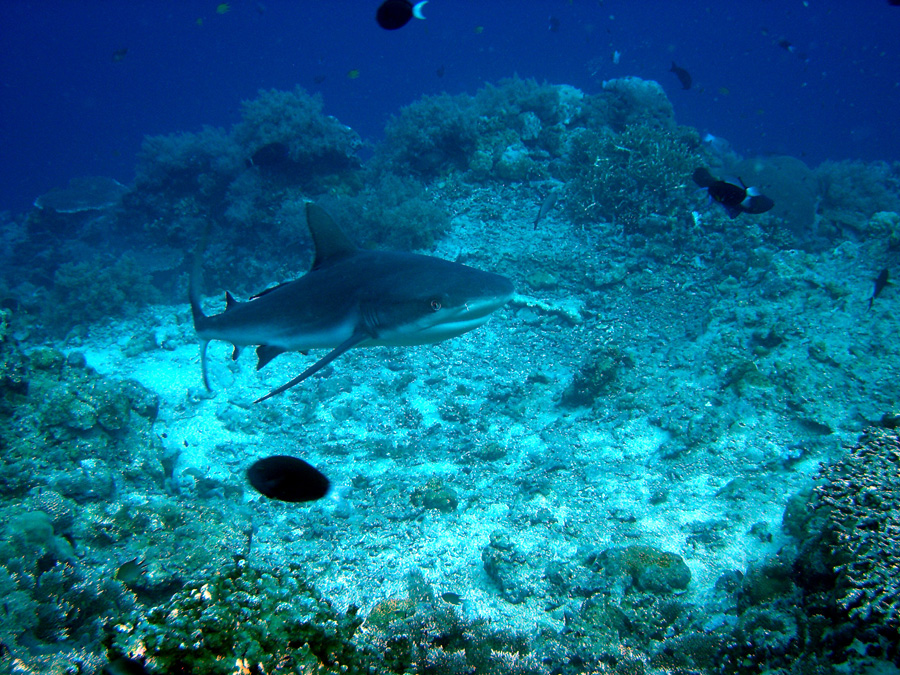Carcharhinus_amblyrhynchos: (147, 199, 558, 422)
